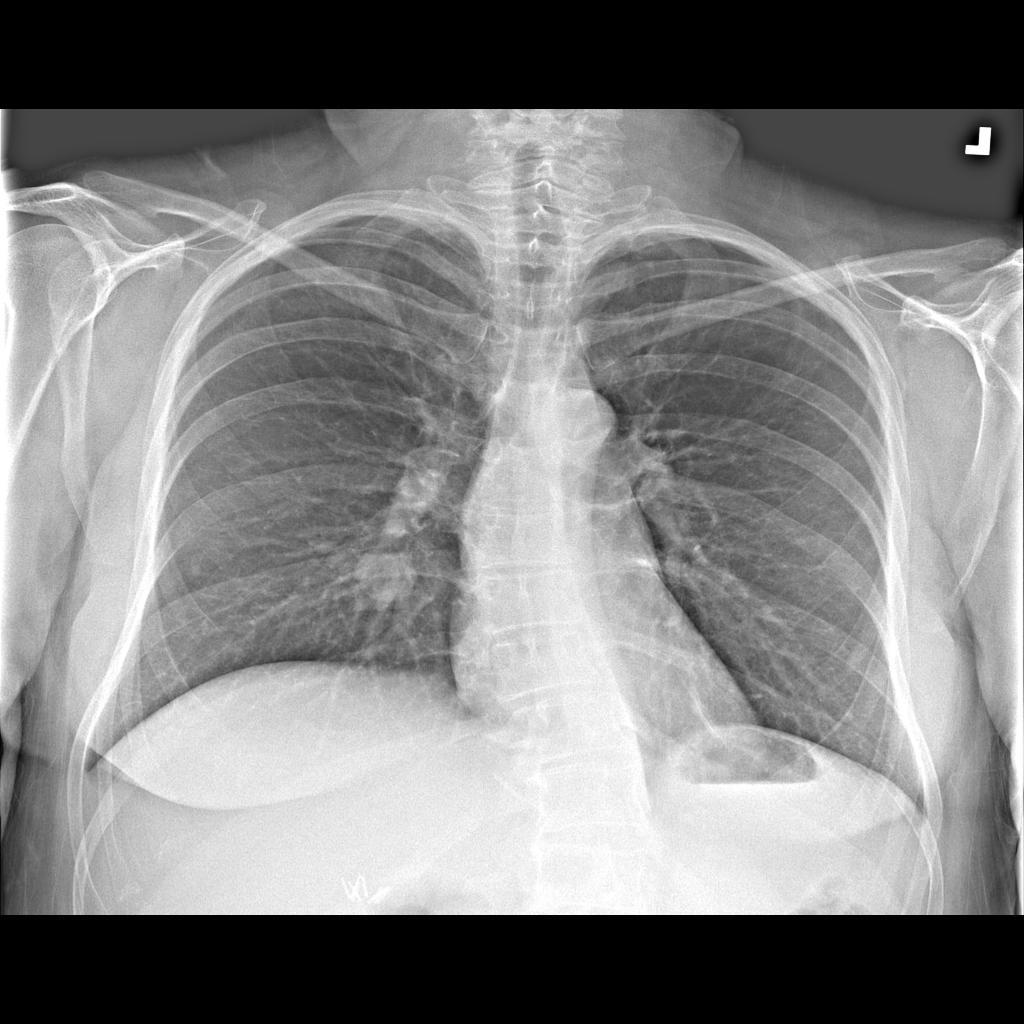Nodule: (349, 543, 418, 616)
